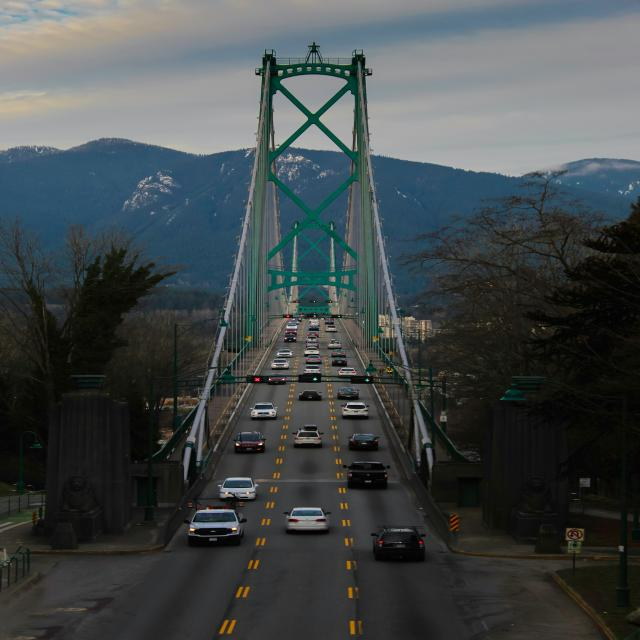Car: (185, 509, 247, 546), (370, 525, 426, 562), (342, 461, 390, 489), (284, 507, 332, 533), (218, 477, 258, 501), (234, 431, 266, 453), (347, 434, 380, 451), (293, 430, 323, 448), (250, 402, 278, 419), (341, 402, 370, 418), (337, 387, 359, 399), (298, 390, 322, 400), (271, 358, 289, 369), (338, 367, 357, 377), (267, 374, 286, 384), (303, 365, 322, 375), (305, 354, 322, 364), (276, 349, 293, 358), (304, 346, 319, 356), (331, 349, 347, 358), (331, 358, 348, 366), (328, 340, 342, 349), (284, 333, 297, 342), (305, 340, 319, 348), (324, 325, 338, 332), (309, 324, 320, 331), (307, 332, 318, 338)
